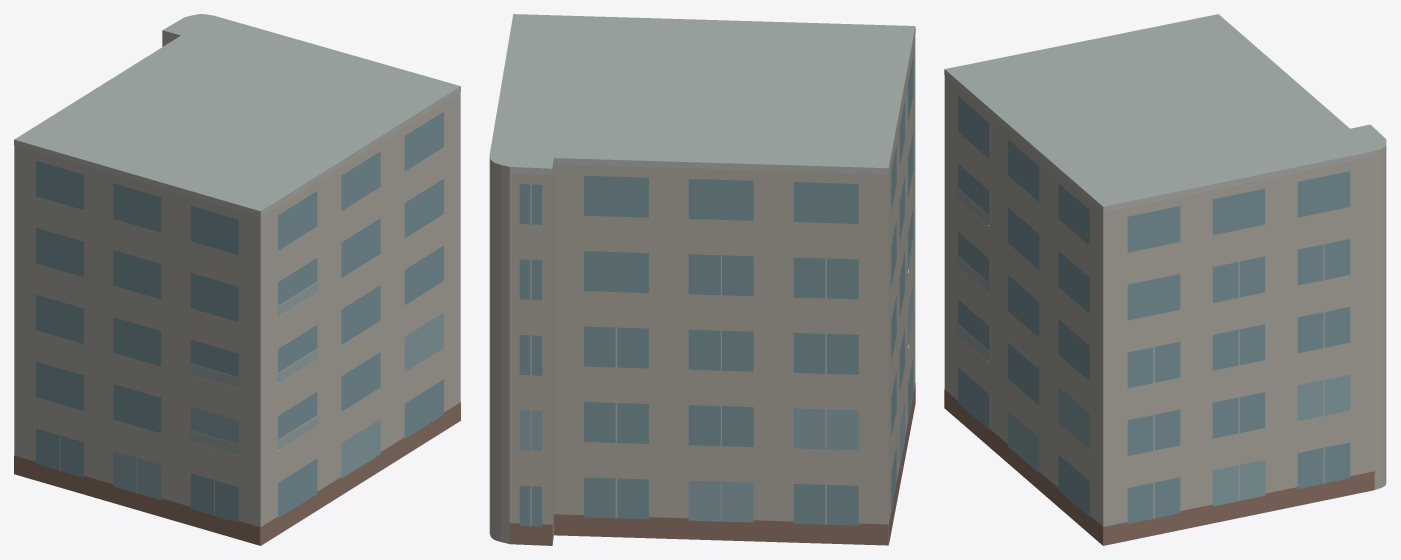
File: survey-upis-32698488.glb
The picture shows the model from 3 angles, left to right: view 1: azimuth 30°, elevation 25°; view 2: azimuth 150°, elevation 25°; view 3: azimuth 270°, elevation 25°; orthographic projection. The views are drawn at different scales.
Visible parts, largest first — view 1: survey-upis-32698488.tmp; view 2: survey-upis-32698488.tmp; view 3: survey-upis-32698488.tmp.
Part boxes in pixels (x1,y1,x2,y2): survey-upis-32698488.tmp: (14, 14, 460, 545); survey-upis-32698488.tmp: (489, 14, 915, 545); survey-upis-32698488.tmp: (944, 14, 1386, 545).
Size of the model in its own units: 17.51 by 14.35 by 16.96.
